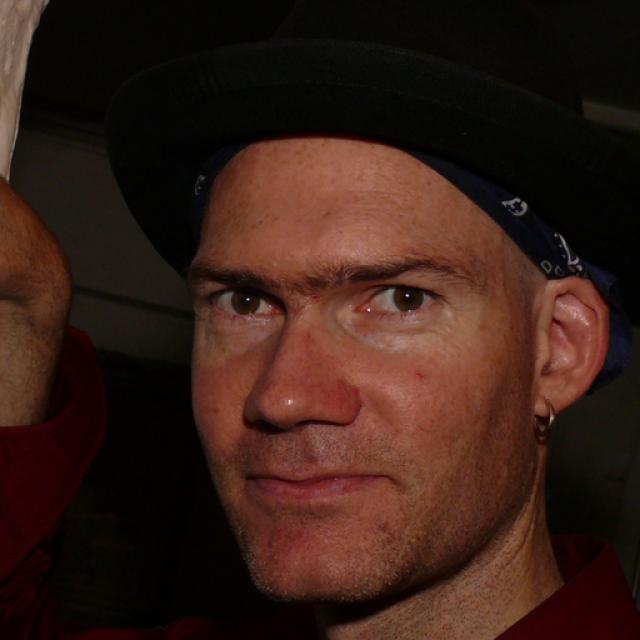Spots: (404, 362, 443, 390)
